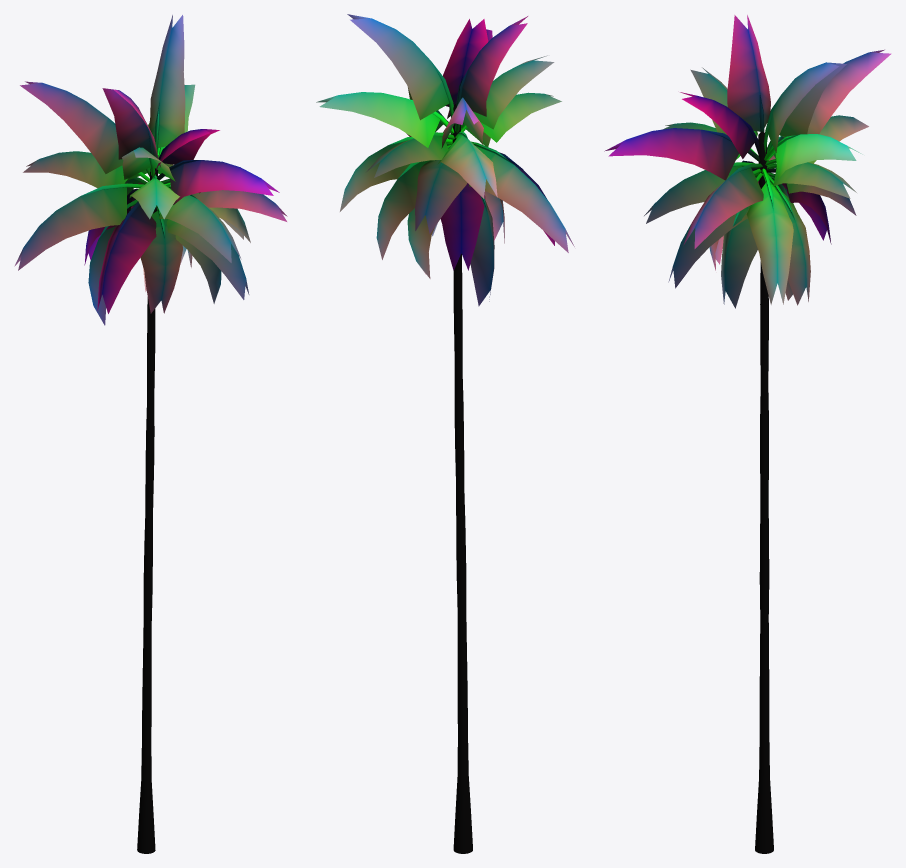
Rendered from M_Palm_1_1.fbx.
The picture shows the model from 3 angles, left to right: view 1: azimuth 30°, elevation 25°; view 2: azimuth 150°, elevation 25°; view 3: azimuth 270°, elevation 25°; orthographic projection. The views are drawn at different scales.
Visible parts, largest first — view 1: Palm_1_1; view 2: Palm_1_1; view 3: Palm_1_1.
Boxes of the visible parts, <box> form: Palm_1_1: <box>14,15,287,853</box>; Palm_1_1: <box>316,14,574,853</box>; Palm_1_1: <box>604,15,891,853</box>.
Size of the model in its own units: 526 by 1768 by 561.
